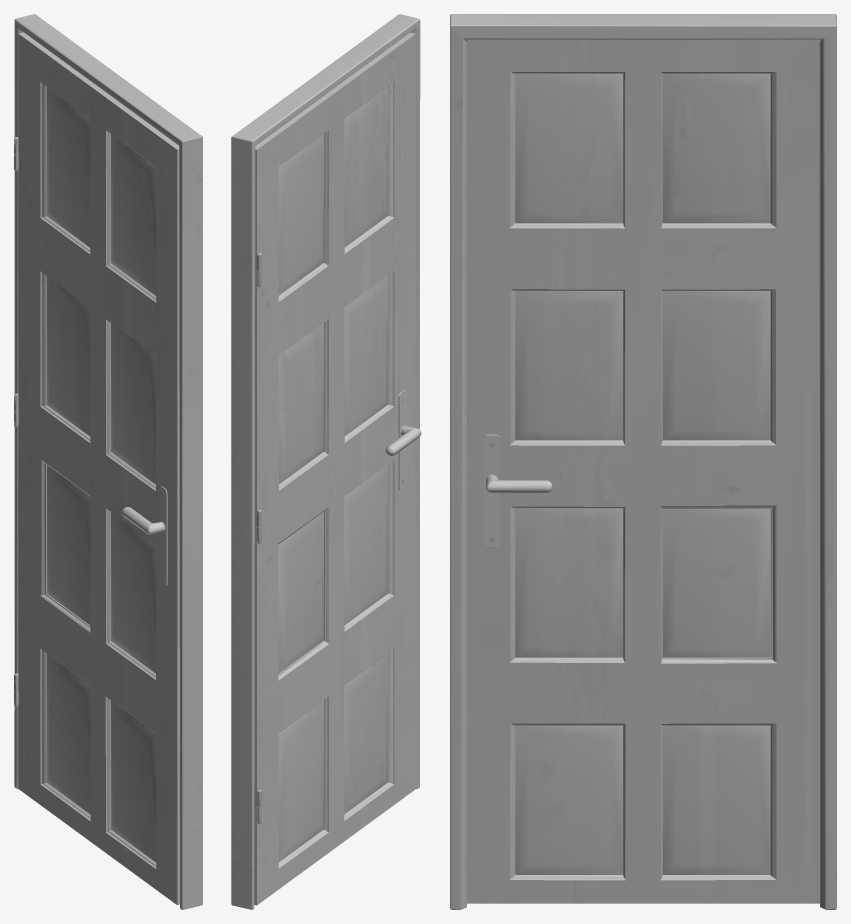
Rendered from uploads_files_3300784_Door1_001.glb.
3 views of the same model, side by side, from view 1: azimuth 30°, elevation 25°; view 2: azimuth 150°, elevation 25°; view 3: azimuth 270°, elevation 25° (orthographic). The views are drawn at different scales.
Parts seen in each view (by area): view 1: Door1.001; view 2: Door1.001; view 3: Door1.001.
Part boxes in pixels (bbox=[...]): Door1.001: bbox=[14, 14, 202, 909]; Door1.001: bbox=[231, 14, 421, 909]; Door1.001: bbox=[450, 14, 836, 909].
Bounding box in the file's own units: 0.1438 × 2.14 × 0.8471.
3 materials, 1 textured.
